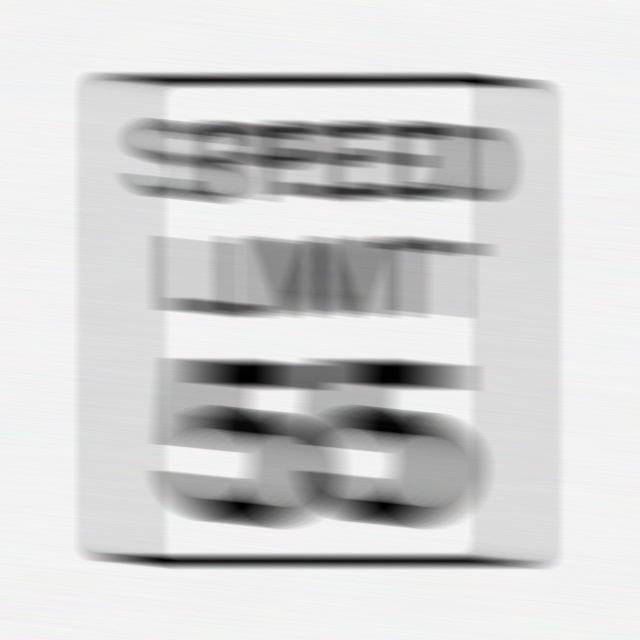speedLimit55: (105, 58, 532, 580)
